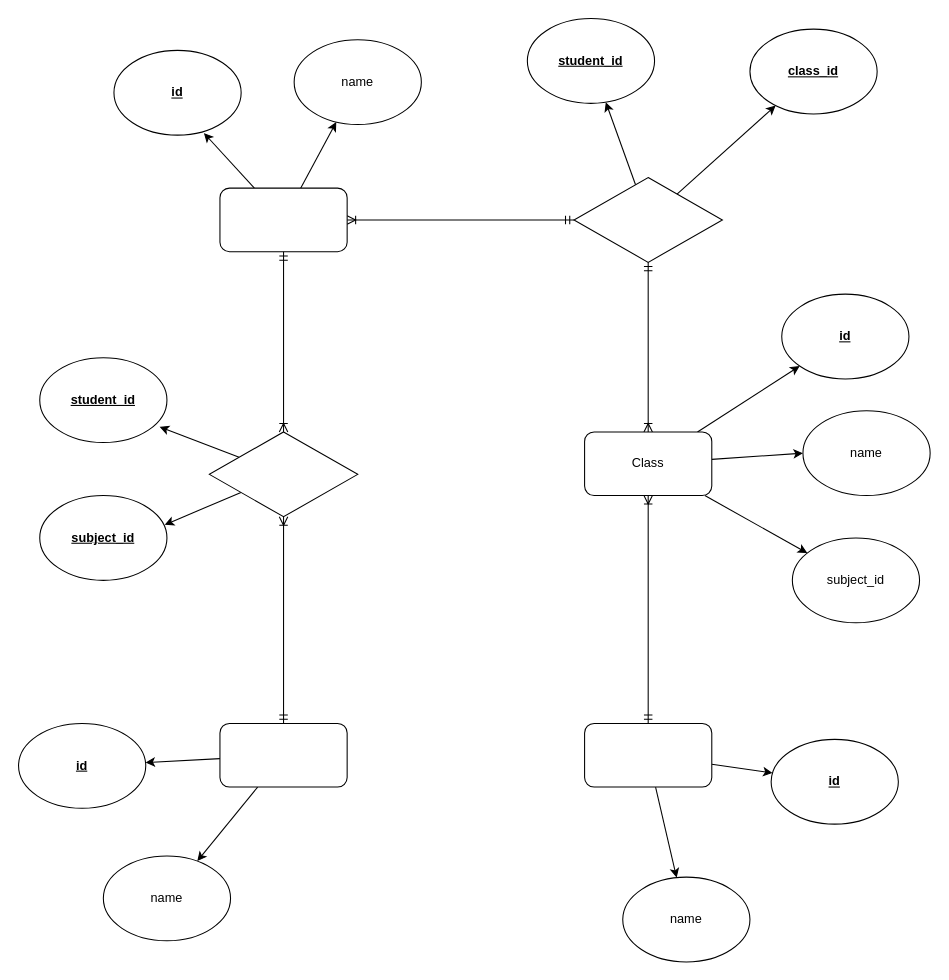
Image size: 949x980. Some labels were removed from this diagram. Each missing label, with the centre of its shape:
"Enroll" belongs at (x=647, y=219).
"Register" belongs at (x=283, y=474).
"Student" belongs at (x=283, y=219).
"Subject" belongs at (x=283, y=754).
"Teacher" belongs at (x=648, y=754).
